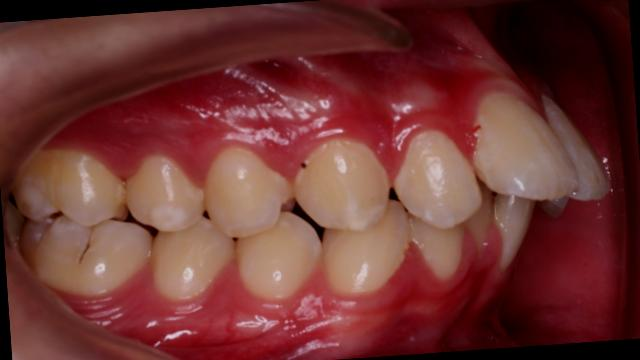canine class II 1/2: (227, 108, 416, 324)
molar class I: (1, 132, 150, 316)
